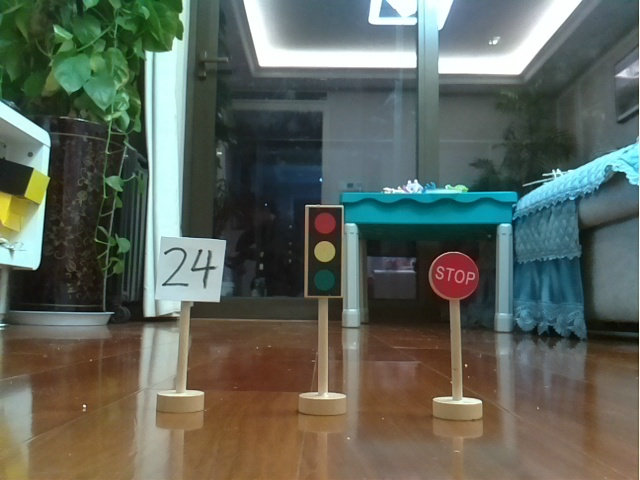Red Traffic Light: (291, 195, 358, 419)
Speed Limit 24: (147, 228, 229, 422)
Stop Sign: (426, 248, 495, 430)
